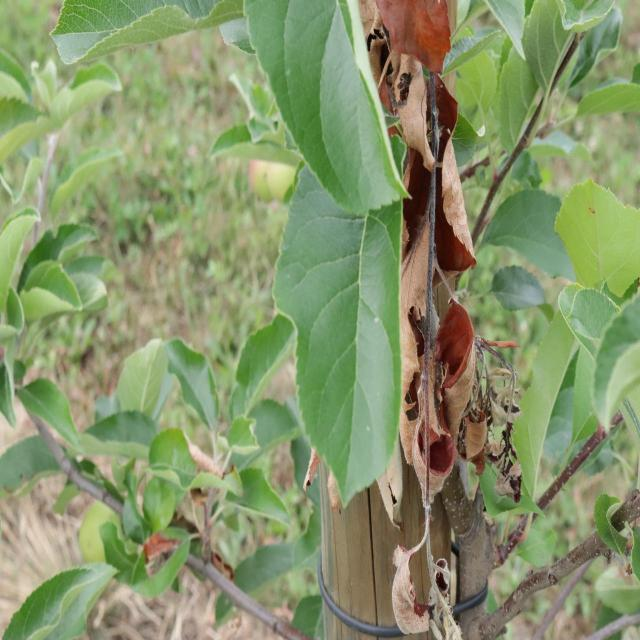-FireBlight-: (357, 0, 488, 640)
